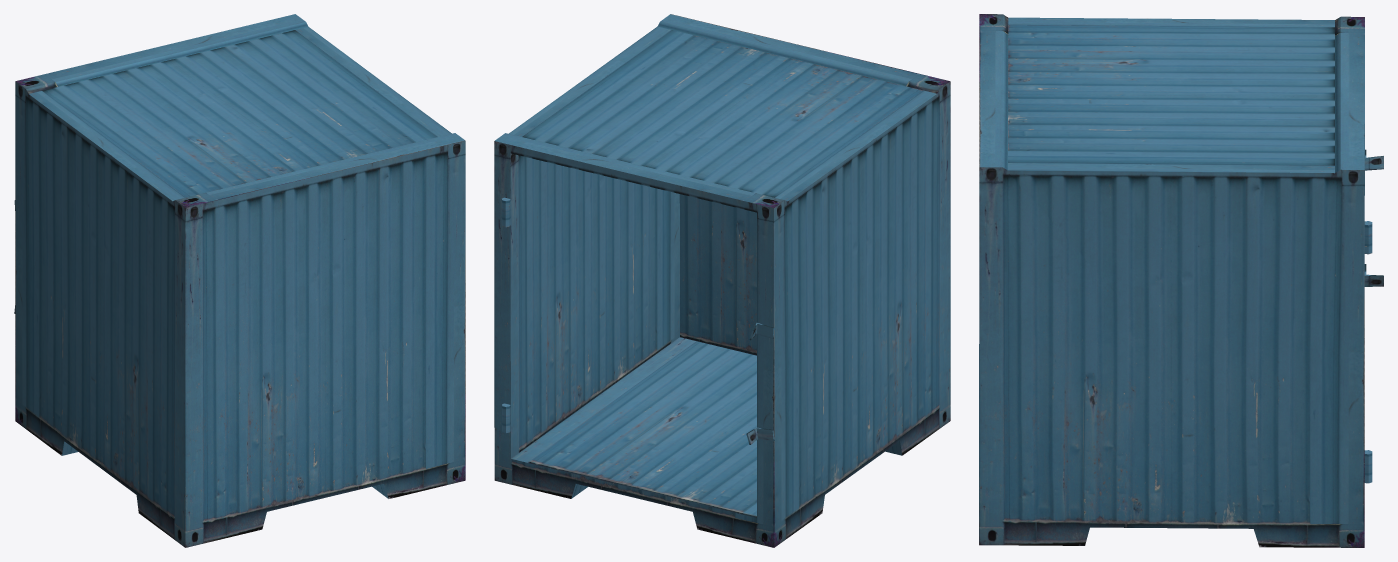
The model's file is Container_BoxOpen04.FBX.
3 renders of one model, left to right at view 1: azimuth 30°, elevation 25°; view 2: azimuth 150°, elevation 25°; view 3: azimuth 270°, elevation 25°, orthographic. The views are drawn at different scales.
Visible parts, largest first — view 1: Container_BoxOpen04; view 2: Container_BoxOpen04; view 3: Container_BoxOpen04.
Boxes of the visible parts, x1,y1,x2,y2 form: Container_BoxOpen04: (14, 14, 465, 547); Container_BoxOpen04: (494, 14, 950, 547); Container_BoxOpen04: (979, 14, 1383, 547).
Bounding box in the file's own units: 99.24 × 114 × 110.
